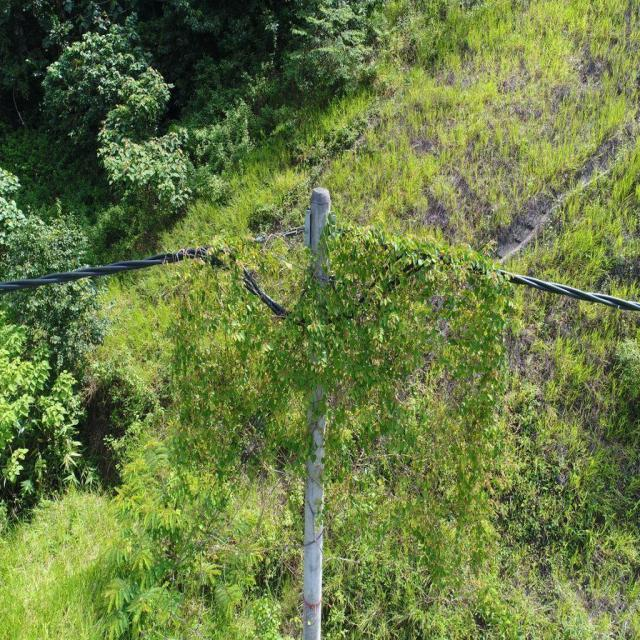critical vegetation: (148, 205, 518, 354)
